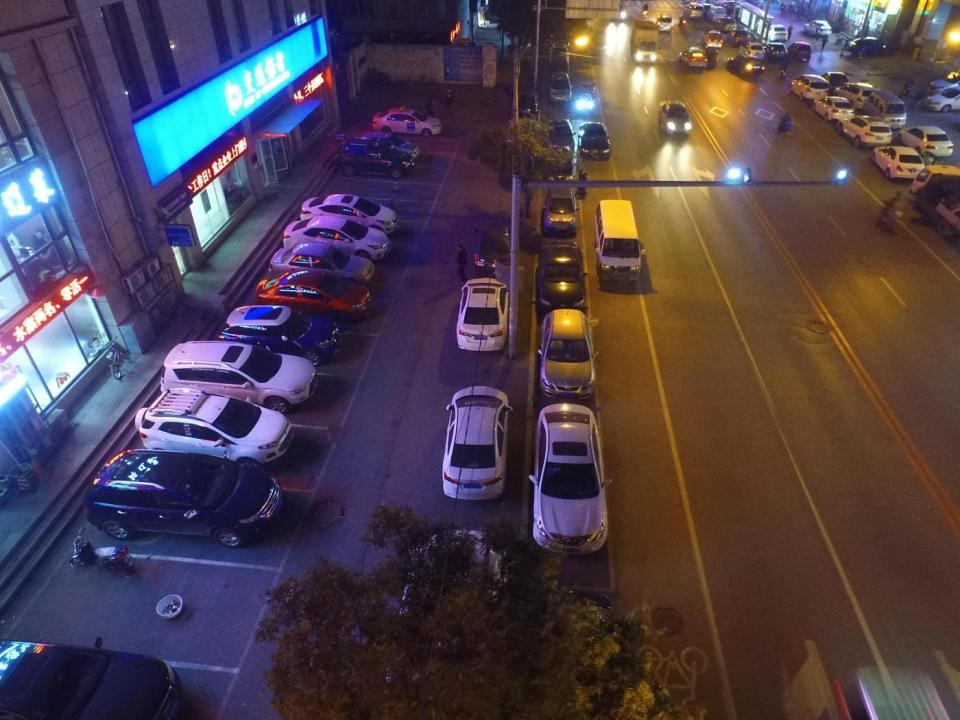car: (80, 446, 283, 546), (398, 527, 512, 686), (0, 637, 186, 720), (503, 587, 624, 713), (133, 386, 298, 464), (528, 401, 606, 556), (158, 340, 318, 412), (440, 384, 508, 499), (224, 306, 342, 367), (257, 272, 372, 323), (282, 219, 393, 265), (540, 304, 592, 402), (272, 244, 373, 293), (299, 184, 400, 229), (459, 278, 509, 354), (538, 237, 586, 309), (335, 138, 420, 178), (368, 103, 444, 138), (543, 180, 581, 237), (872, 142, 924, 183), (476, 224, 513, 280), (896, 123, 952, 159), (838, 113, 891, 149), (577, 117, 615, 163), (358, 130, 420, 157), (835, 82, 879, 112), (657, 100, 692, 136), (546, 120, 575, 160), (812, 96, 854, 123), (790, 74, 829, 102), (926, 83, 959, 112), (546, 69, 572, 103), (728, 54, 764, 76), (846, 37, 884, 57), (548, 40, 572, 68), (820, 70, 848, 94), (928, 72, 958, 94), (678, 47, 709, 67), (762, 41, 786, 61), (737, 41, 765, 58), (804, 21, 831, 37), (704, 27, 724, 48), (788, 42, 809, 62), (728, 28, 747, 47), (767, 25, 788, 41), (688, 2, 706, 18), (657, 14, 673, 31), (708, 7, 726, 22), (718, 17, 736, 31), (704, 3, 712, 13)
truck: (907, 161, 959, 240), (632, 20, 661, 66), (875, 203, 904, 232)
van: (594, 198, 648, 290), (862, 89, 905, 129)
